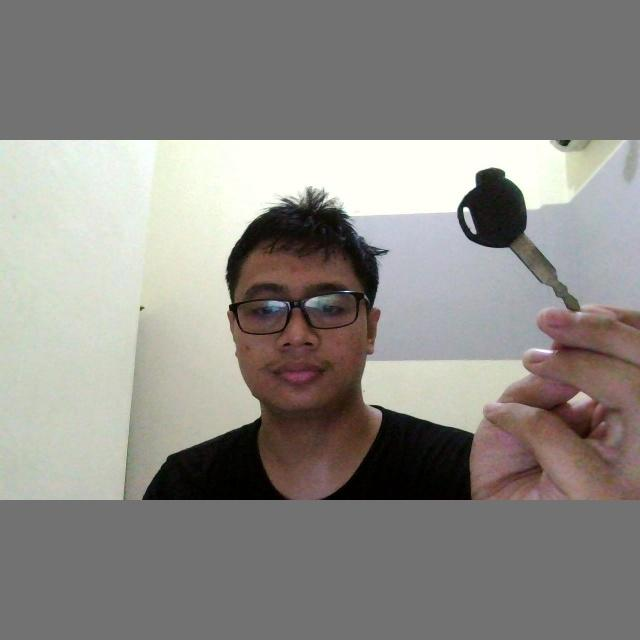Keys: (454, 158, 586, 318)
